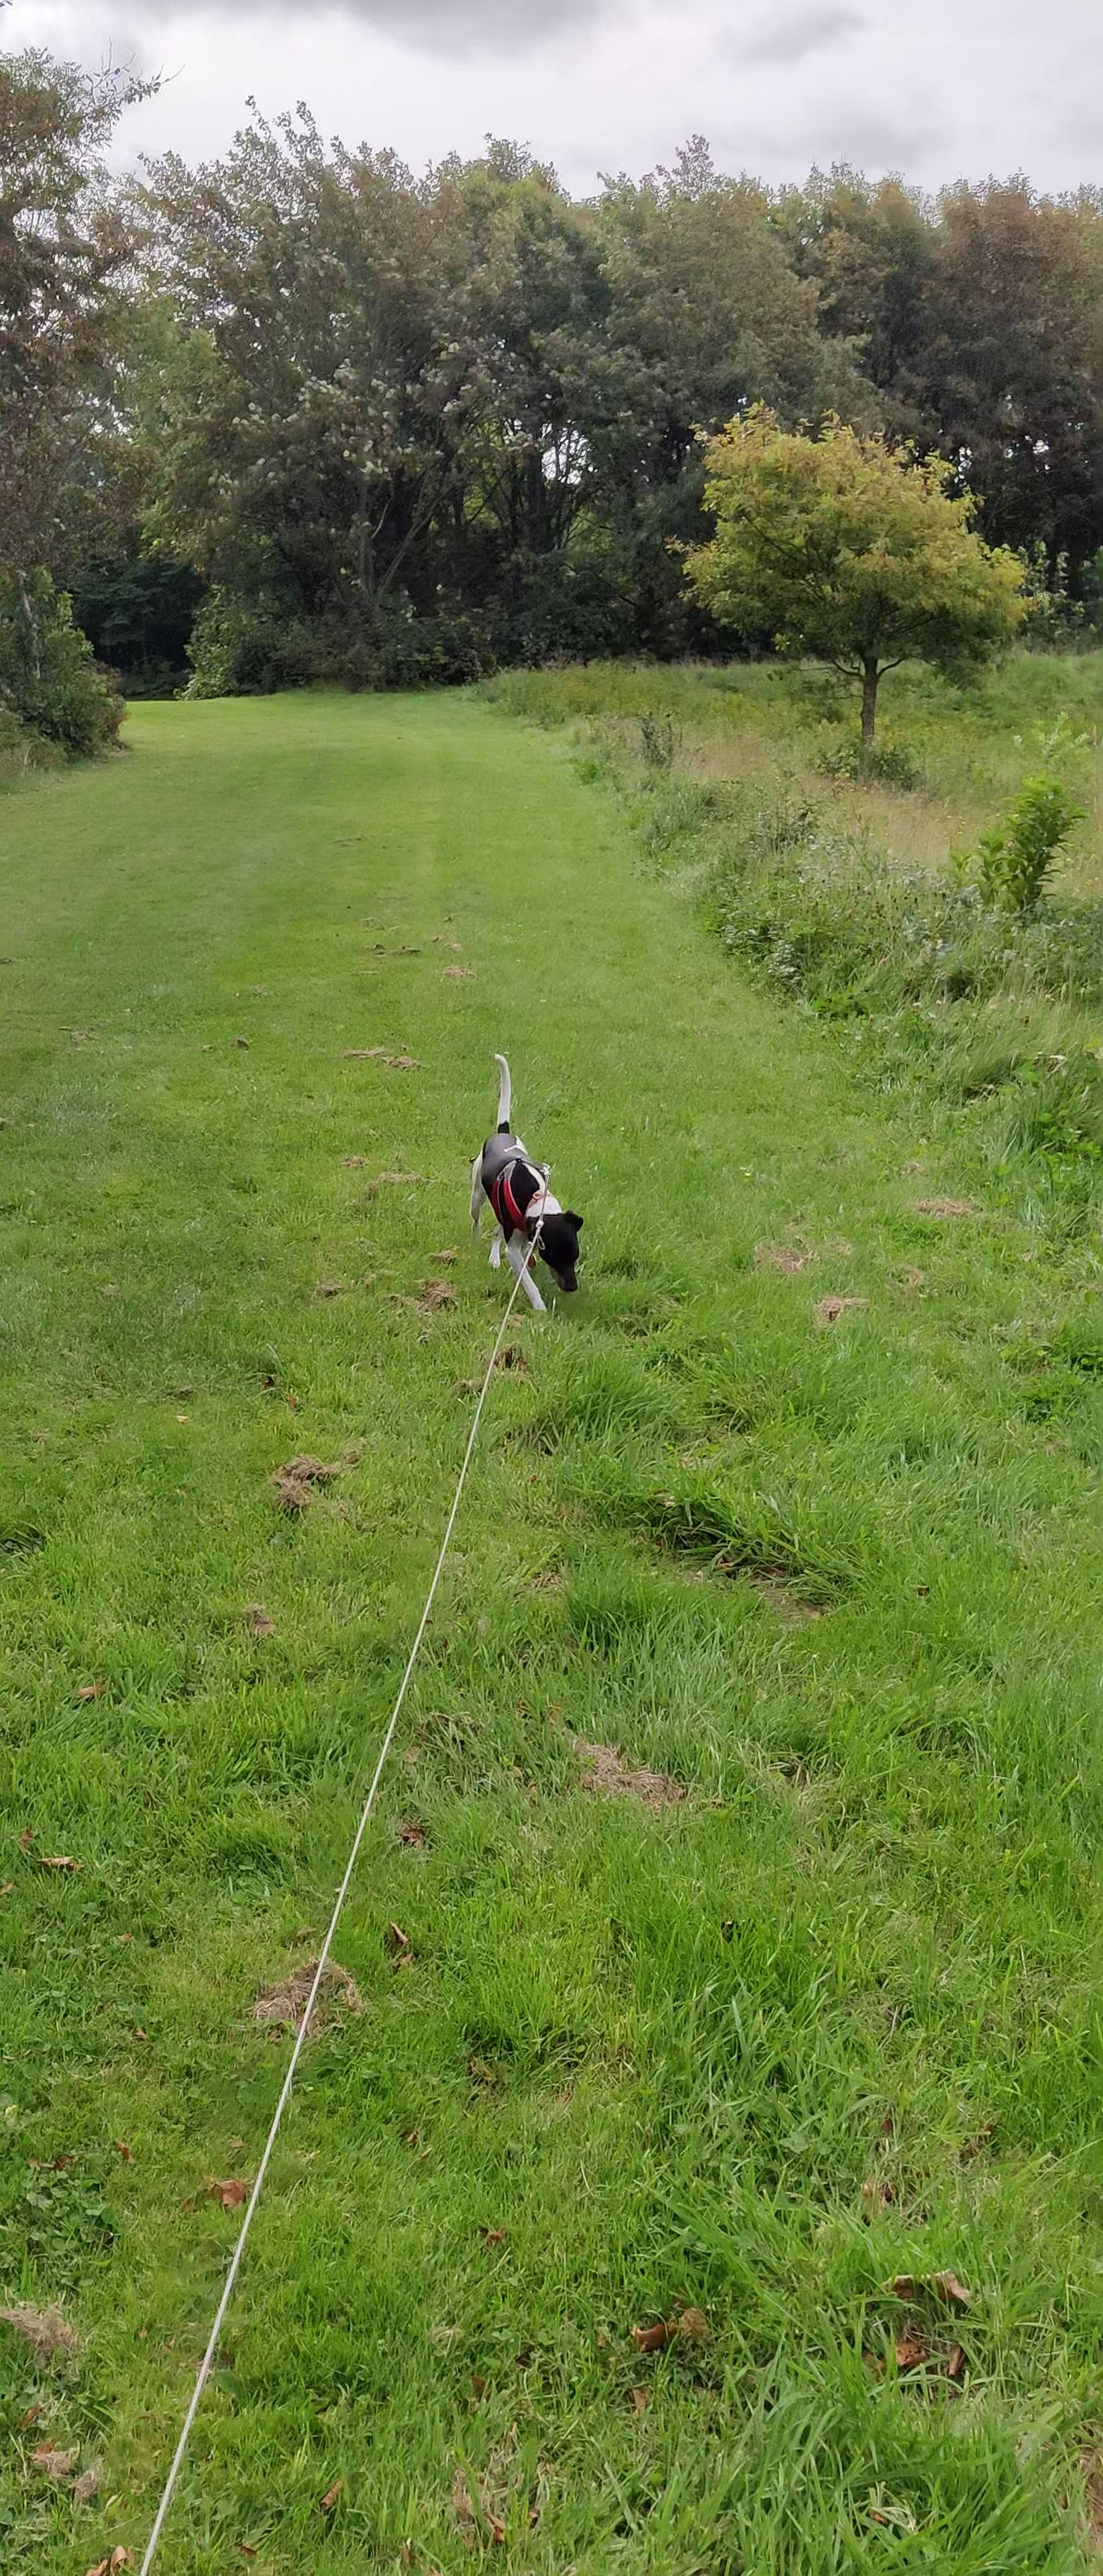Dog: (465, 1050, 584, 1311)
